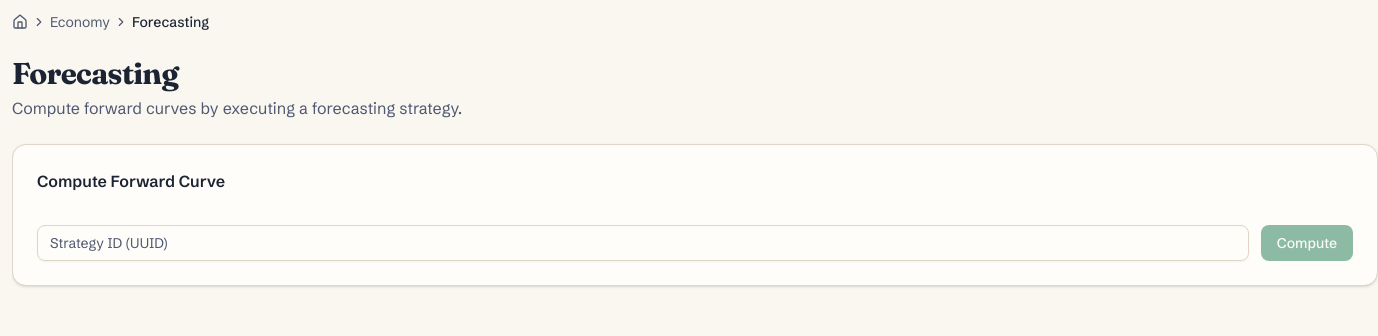
Scenario: ForecastingPage › shows error message when computation fails
Type "550e8400-e29b-41d4-a716-446655440000" into the field labelled "Strategy ID (UUID)".
click(643, 243); type("550e8400-e29b-41d4-a716-446655440000")  # box [37, 225, 1249, 261]
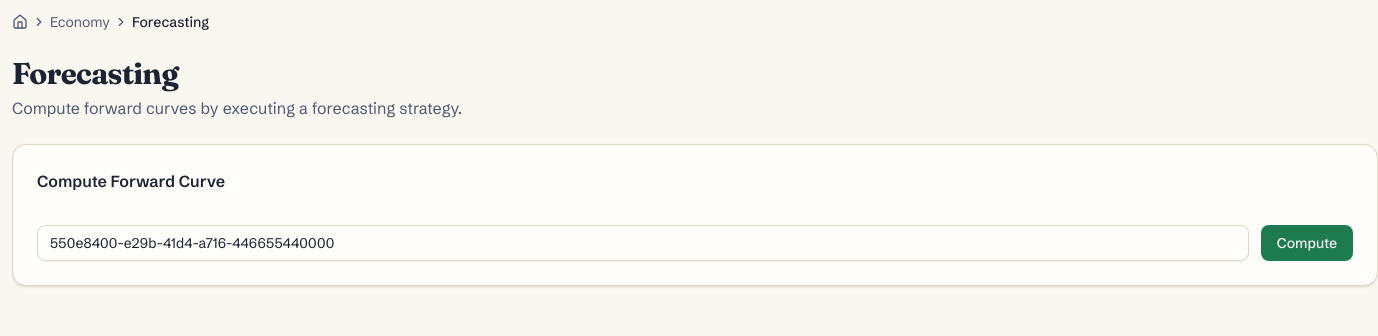
Submit the form named "forward curve form", box [37, 225, 1353, 261]
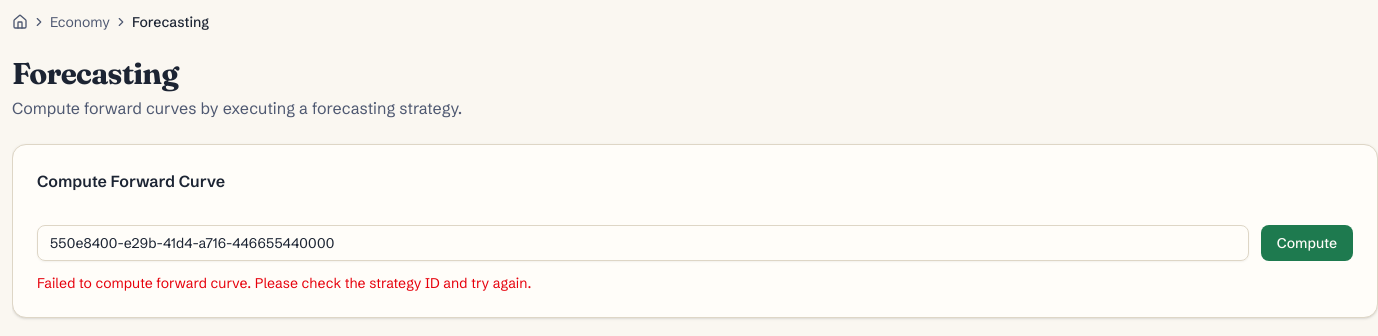
Expected: the message shows "Failed to compute forward curve", [37, 274, 531, 292]
